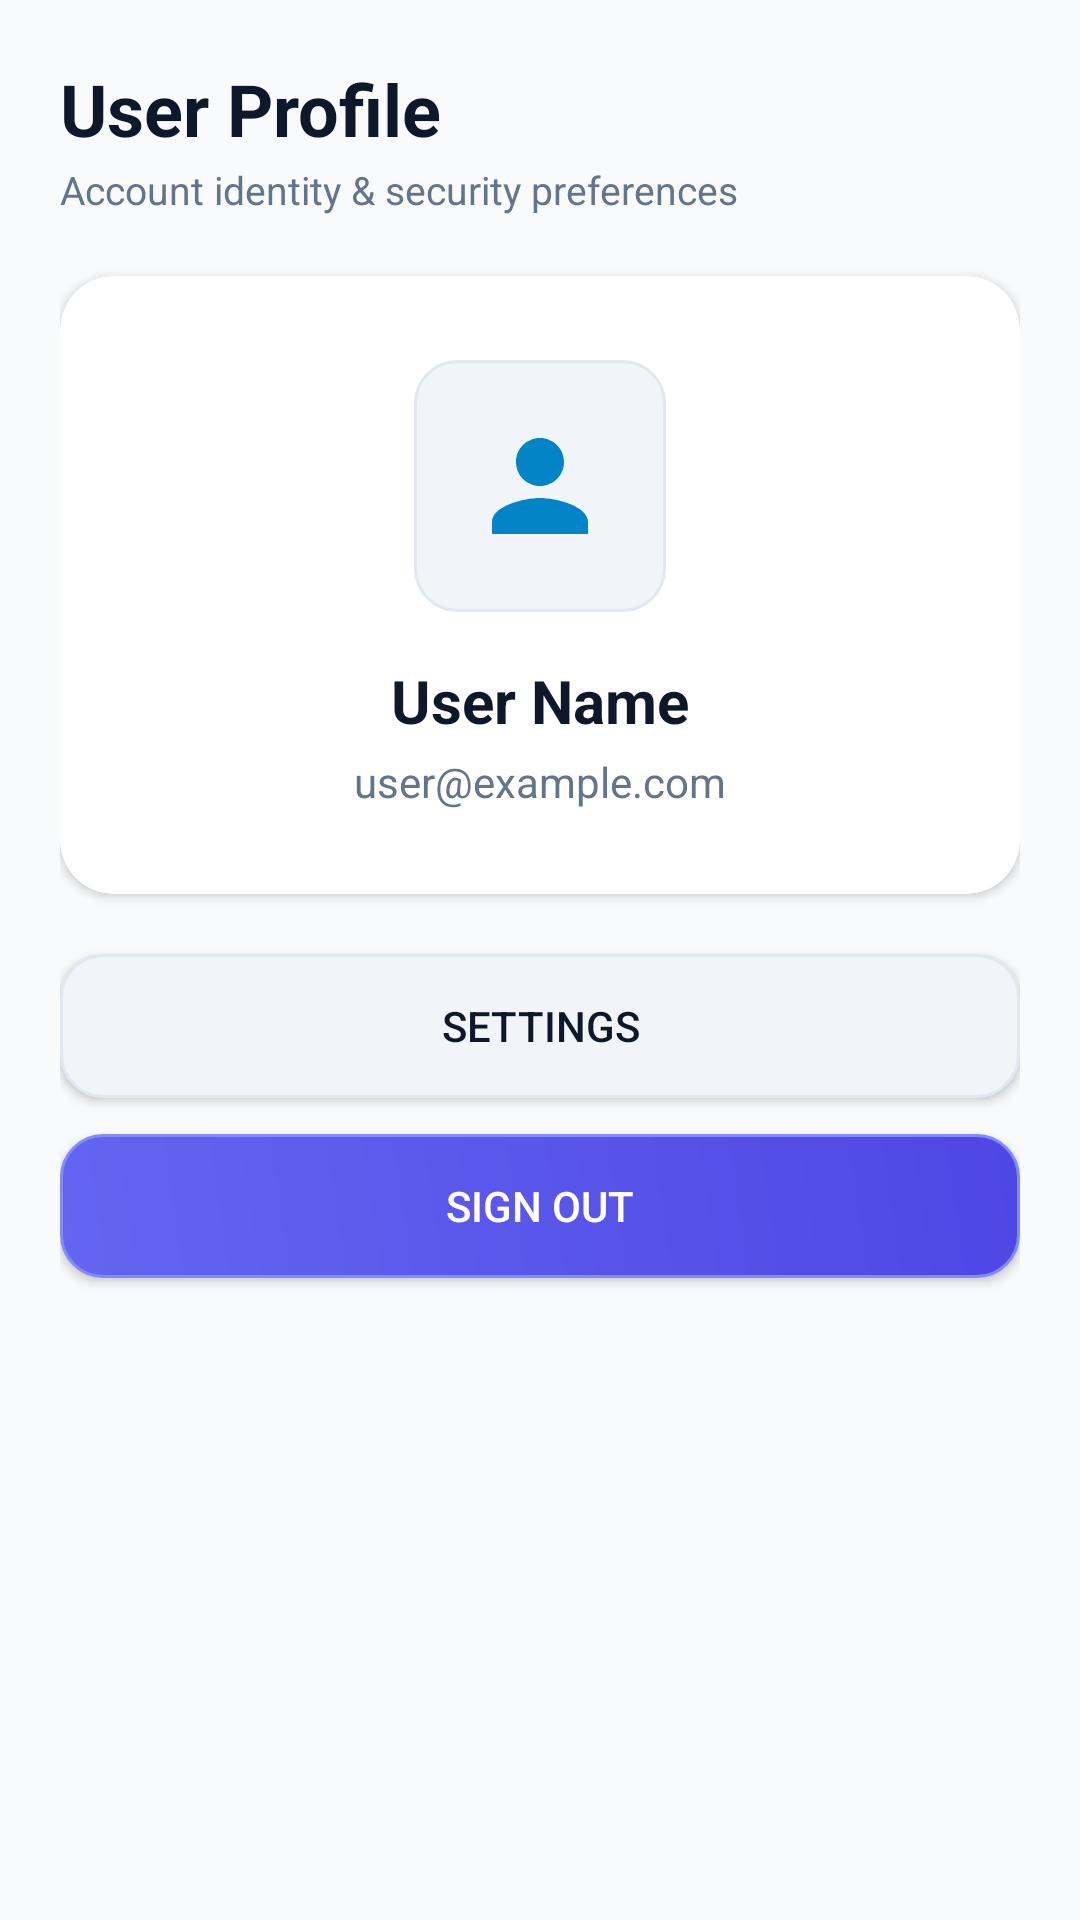

Where icons sit on this 1080×1920 app screen, as [x1, y1, x2, y2]:
User Profile: [492, 438, 588, 534]
